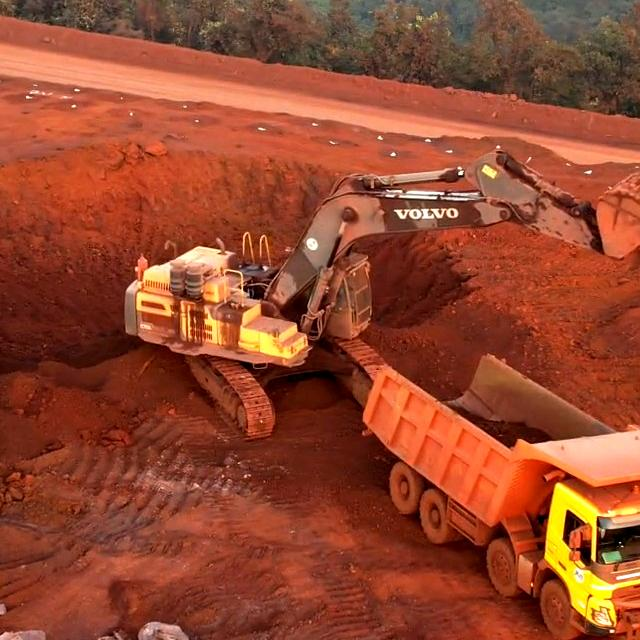Dumper truck: (521, 445, 640, 629)
Excavator: (121, 245, 336, 365), (407, 158, 640, 267)
